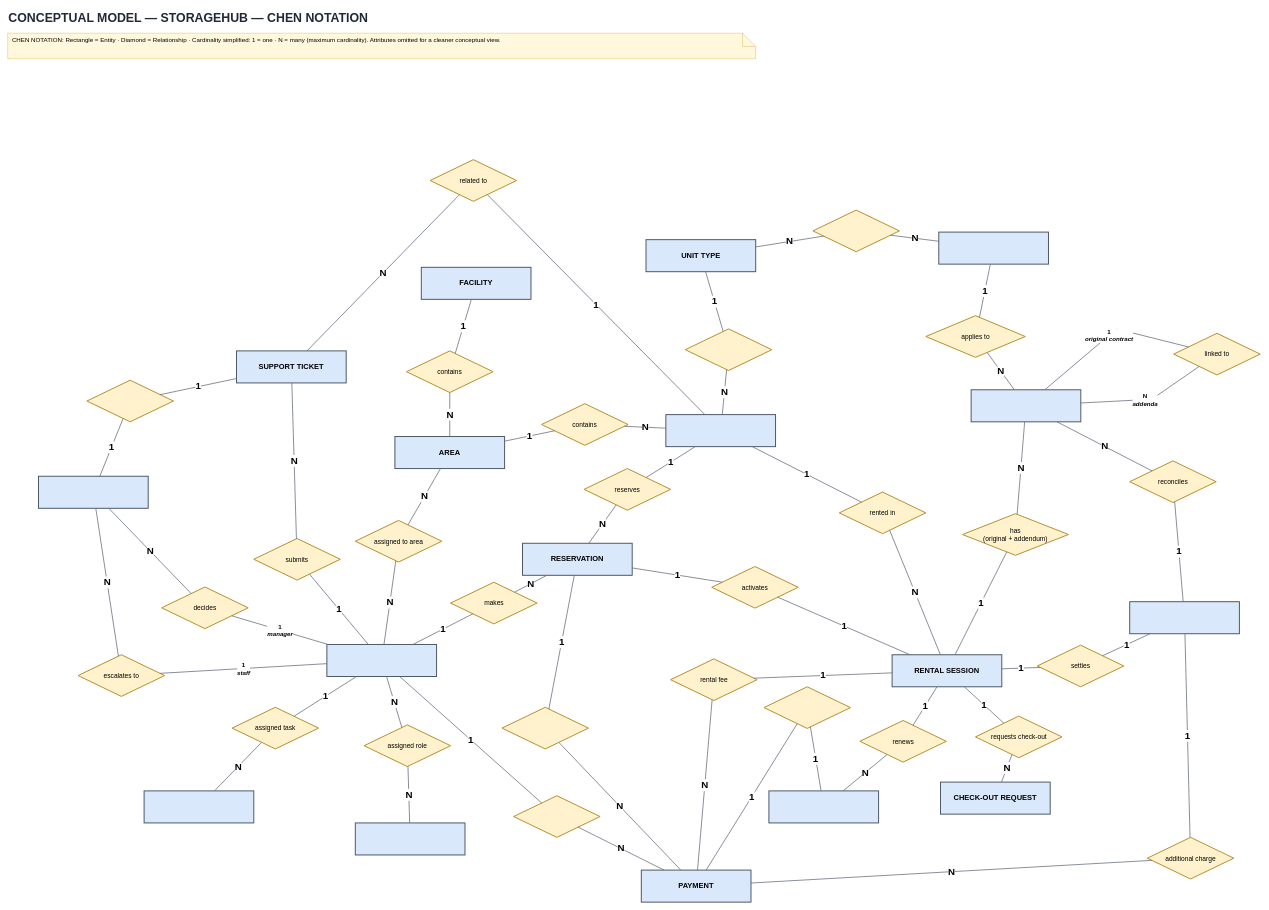
The diagram is 1269 pixels wide and 910 high, and some of its shapes have lost their labels. Here are the shapes that lost their labels. From the top down, the centre of each, then its label:
At [856,230]: "applies".
At [993,247]: "PRICING POLICY".
At [728,349]: "classified as".
At [130,401]: "escalates".
At [1025,405]: "CONTRACT".
At [720,430]: "STORAGE UNIT".
At [93,492]: "ESCALATION".
At [1184,617]: "SETTLEMENT".
At [381,660]: "USER".
At [807,707]: "renewal fee".
At [545,728]: "reservation deposit".
At [198,806]: "TASK".
At [556,816]: "makes payment".
At [823,806]: "RENEWAL".
At [410,838]: "ROLE".
